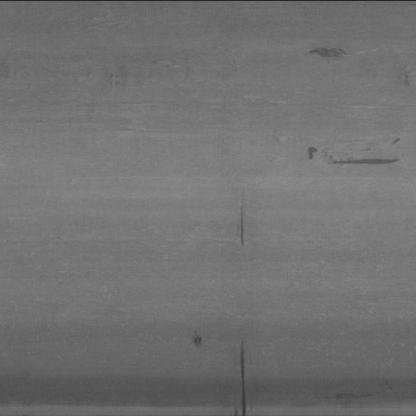rolled_pit: (286, 145, 409, 178)
